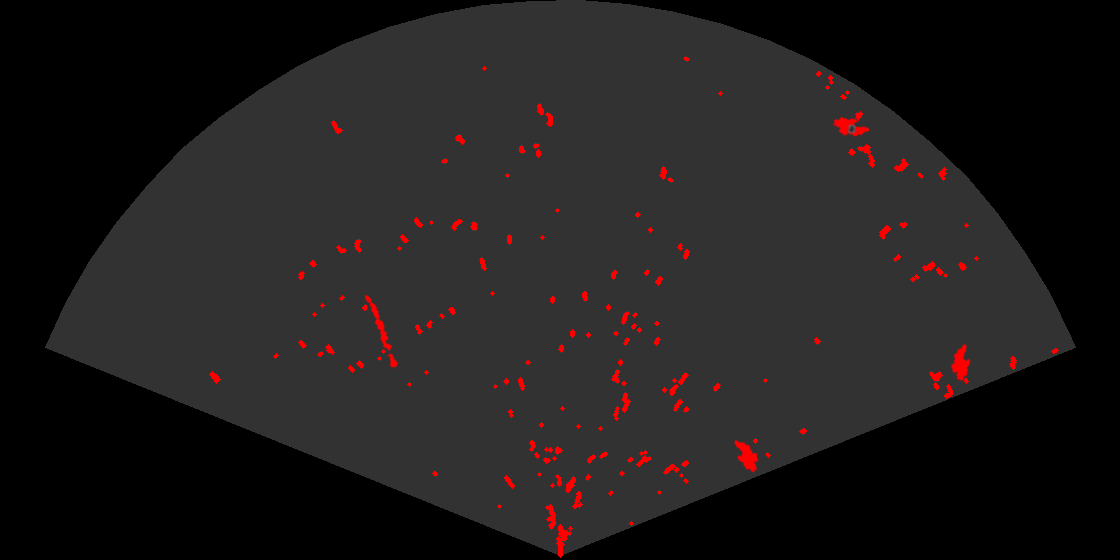AUV: (733, 438, 760, 474), (949, 342, 972, 383), (832, 115, 872, 138)
chain: (363, 293, 400, 370)
